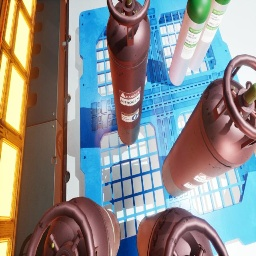0: (169, 0, 211, 86), (188, 0, 231, 71), (254, 147, 256, 158)
NitrogenTank ,: (162, 54, 256, 197), (106, 0, 151, 146), (25, 196, 121, 256), (136, 206, 229, 256)
